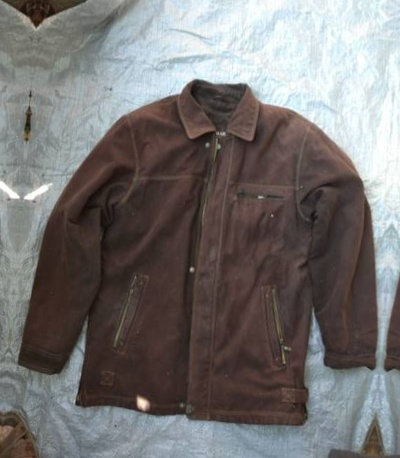Blazer: (17, 60, 398, 443), (380, 90, 400, 458), (0, 28, 19, 411)
